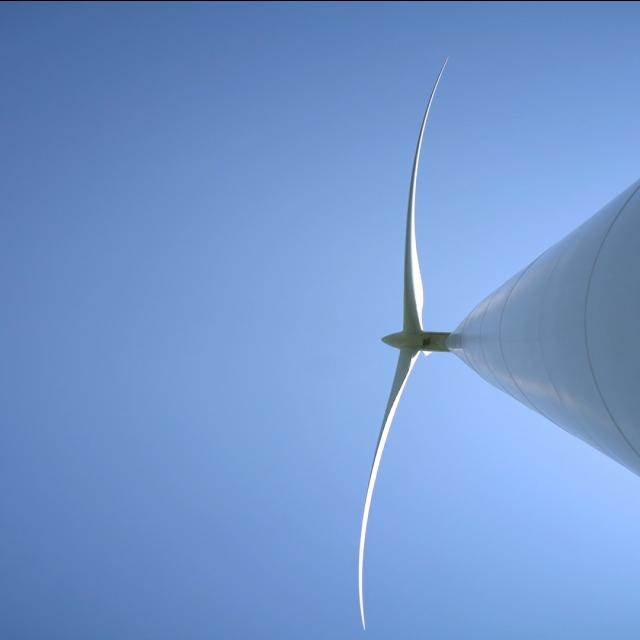blade 2: (354, 360, 416, 608)
blade 3: (384, 136, 459, 320)
